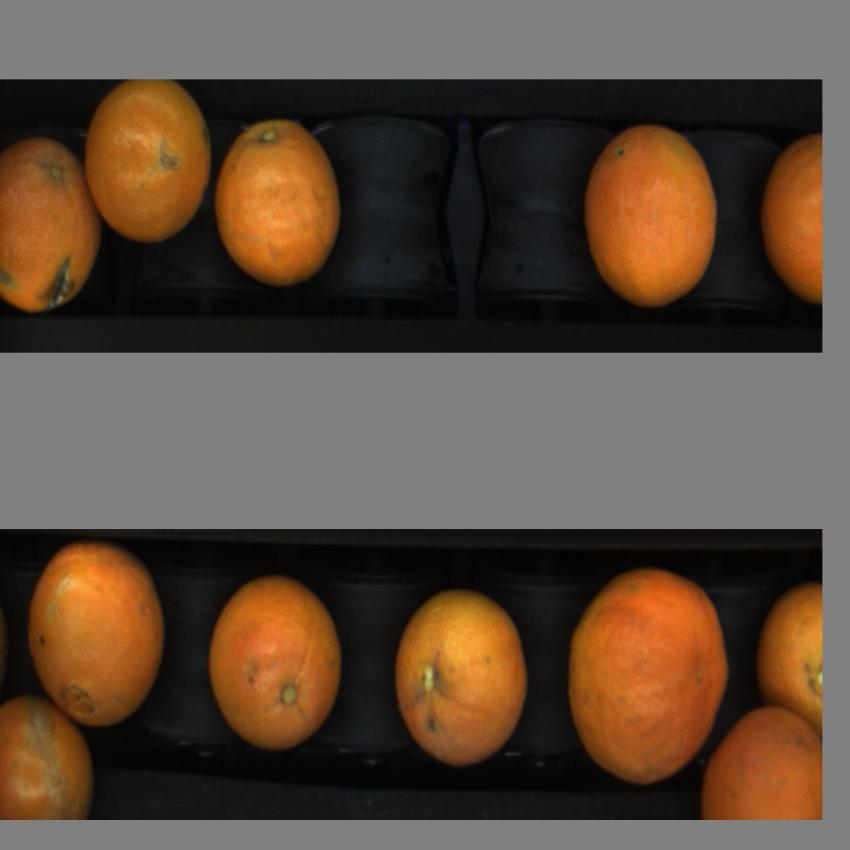Buen estado: (566, 568, 735, 786), (24, 538, 164, 733), (203, 571, 347, 757), (585, 121, 718, 312), (392, 587, 532, 768), (701, 699, 825, 821), (759, 130, 822, 300), (755, 578, 821, 726)
Mal estado: (215, 114, 343, 294), (83, 87, 215, 244), (0, 133, 103, 317), (0, 704, 90, 826)
